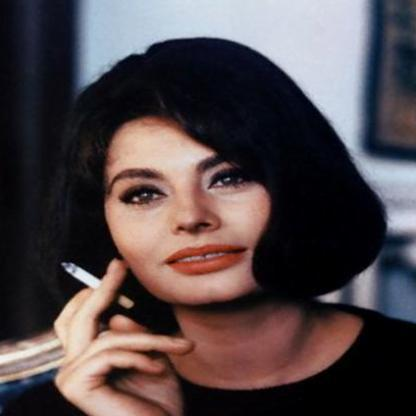cigarette: (61, 260, 138, 310)
person: (58, 46, 390, 415)
